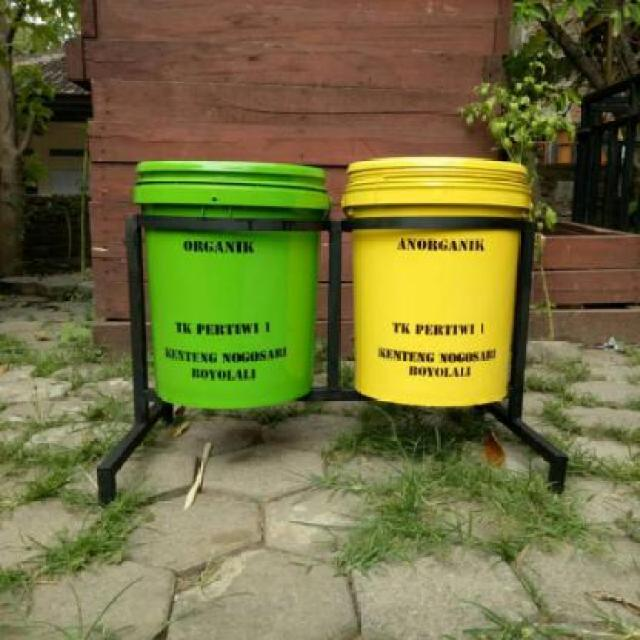garbage container: (336, 151, 544, 419), (129, 147, 330, 421)
